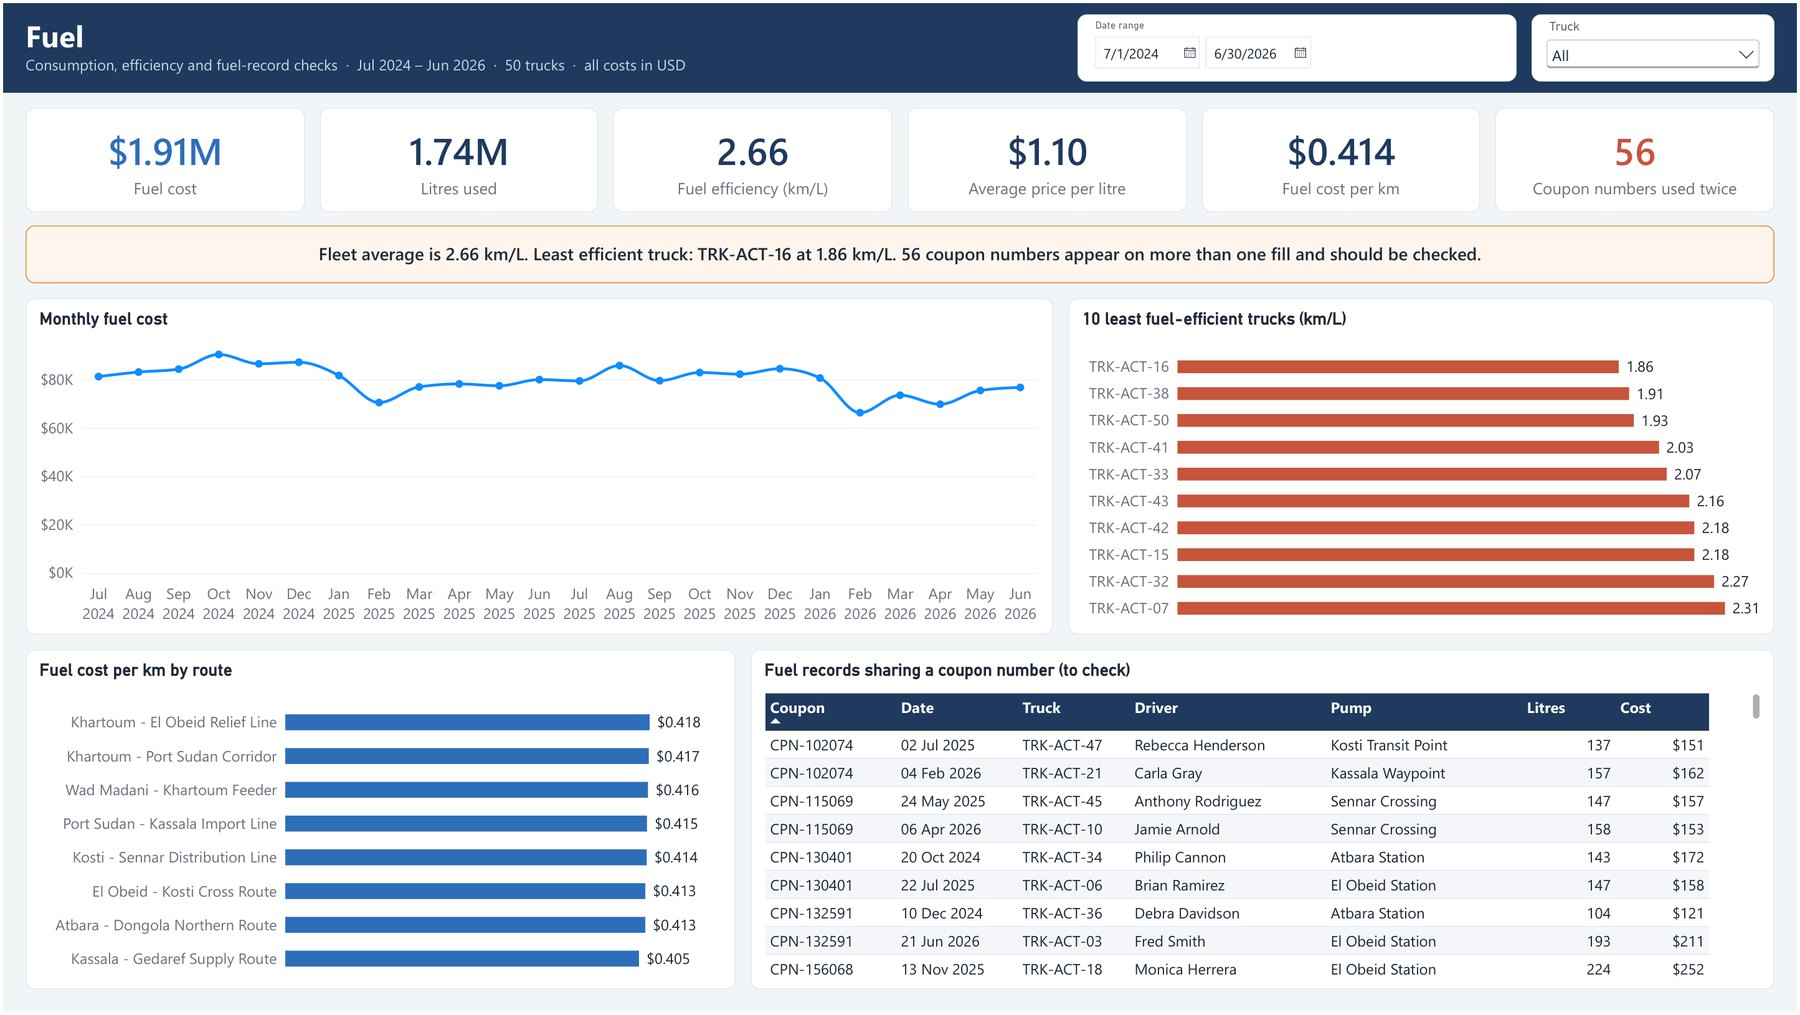

The dashboard page shown, as its layout file describes it:
{"tool":"powerbi","page":{"name":"Fuel","canvas":[1920,1080],"ordinal":1},"visuals":[{"type":"textbox","box":[0,0,1920,96],"z":0},{"type":"slicer","fields":{"Values":["DimDate.Date"]},"box":[1150,12,470,72],"z":100},{"type":"slicer","fields":{"Values":["DimTruck.Truck ID"]},"box":[1636,12,260,72],"z":101},{"type":"card","fields":{"Values":["_Measures_.Total Fuel Cost"]},"box":[24,112,298.7,112],"z":1000},{"type":"card","fields":{"Values":["_Measures_.Total Fuel Litres"]},"box":[338.7,112,298.7,112],"z":1001},{"type":"card","fields":{"Values":["_Measures_.Average Fuel Efficiency"]},"box":[653.3,112,298.7,112],"z":1002},{"type":"card","fields":{"Values":["_Measures_.Average Fuel Price"]},"box":[968,112,298.7,112],"z":1003},{"type":"card","fields":{"Values":["_Measures_.Fuel Cost per KM"]},"box":[1282.7,112,298.7,112],"z":1004},{"type":"card","fields":{"Values":["_Measures_.Duplicate Coupon Numbers"]},"box":[1597.3,112,298.7,112],"z":1005},{"type":"card","fields":{"Values":["_Measures_.Insight - Fuel"]},"box":[24,238,1872,62],"z":1100},{"type":"lineChart","title":"Monthly fuel cost","fields":{"Category":["DimDate.Month Year"],"Y":["_Measures_.Total Fuel Cost"]},"box":[24,316,1100,360],"z":2000},{"type":"clusteredBarChart","title":"10 least fuel-efficient trucks (km/L)","fields":{"Category":["DimTruck.Truck ID"],"Y":["_Measures_.Average Fuel Efficiency"]},"box":[1140,316,756,360],"z":2001},{"type":"clusteredBarChart","title":"Fuel cost per km by route","fields":{"Category":["Fuel.Route"],"Y":["_Measures_.Fuel Cost per KM"]},"box":[24,692,760,364],"z":2002},{"type":"tableEx","title":"Fuel records sharing a coupon number (to check)","fields":{"Values":["Fuel.Coupon #","Fuel.Date","Fuel.Truck ID","Fuel.Driver Name","Fuel.Pump Location","_Measures_.Total Fuel Litres","_Measures_.Total Fuel Cost"]},"box":[800,692,1096,364],"z":2003}]}

Visuals, with their boxes in screenshot pixels (x1, y1, x2, y2), scaled from the page's 1920x1080 canvas onto the 1800x1015 screenshot:
textbox: (x1=0, y1=0, x2=1799, y2=90)
slicer - DimDate.Date: (x1=1078, y1=11, x2=1519, y2=79)
slicer - DimTruck.Truck ID: (x1=1534, y1=11, x2=1778, y2=79)
card - _Measures_.Total Fuel Cost: (x1=22, y1=105, x2=303, y2=211)
card - _Measures_.Total Fuel Litres: (x1=318, y1=105, x2=598, y2=211)
card - _Measures_.Average Fuel Efficiency: (x1=612, y1=105, x2=892, y2=211)
card - _Measures_.Average Fuel Price: (x1=908, y1=105, x2=1188, y2=211)
card - _Measures_.Fuel Cost per KM: (x1=1203, y1=105, x2=1483, y2=211)
card - _Measures_.Duplicate Coupon Numbers: (x1=1497, y1=105, x2=1778, y2=211)
card - _Measures_.Insight - Fuel: (x1=22, y1=224, x2=1778, y2=282)
"Monthly fuel cost" lineChart: (x1=22, y1=297, x2=1054, y2=635)
"10 least fuel-efficient trucks (km/L)" clusteredBarChart: (x1=1069, y1=297, x2=1778, y2=635)
"Fuel cost per km by route" clusteredBarChart: (x1=22, y1=650, x2=735, y2=992)
"Fuel records sharing a coupon number (to check)" tableEx: (x1=750, y1=650, x2=1778, y2=992)
